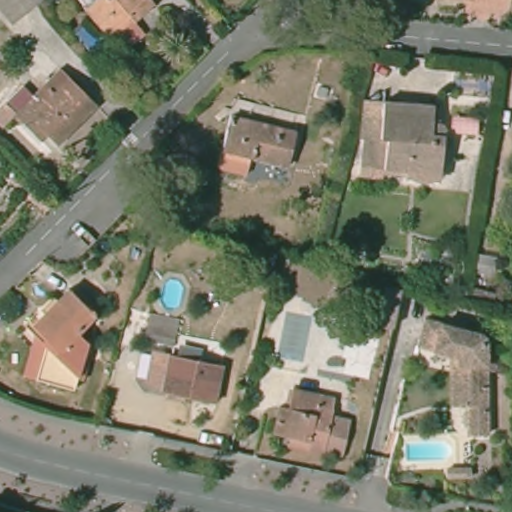pool: (273, 308, 311, 365), (406, 435, 455, 465), (155, 276, 188, 312)
